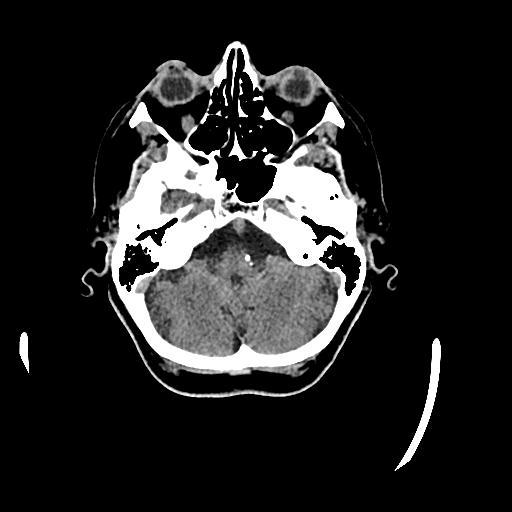Normal_Brain: (72, 30, 393, 409)
